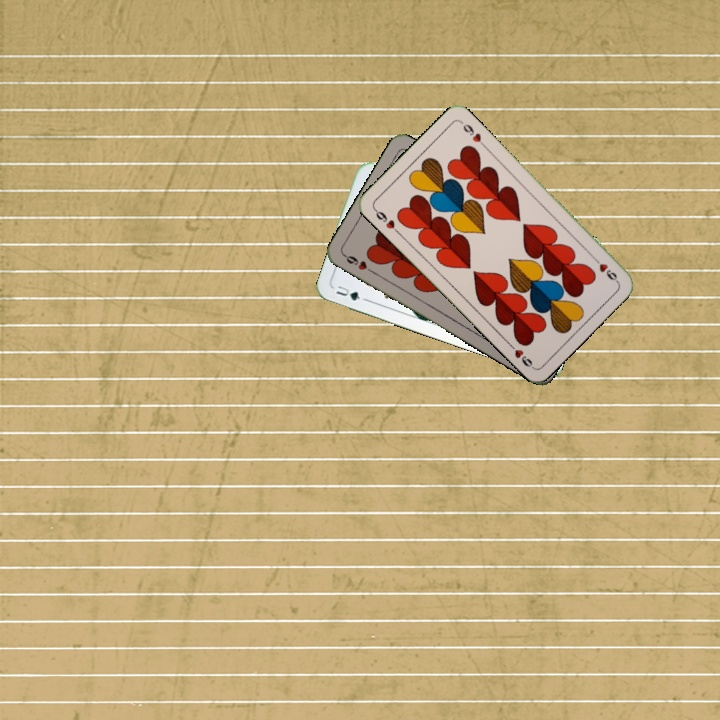GU: (332, 282, 363, 303)
H9: (370, 204, 402, 237), (588, 252, 620, 285), (340, 251, 377, 276)
